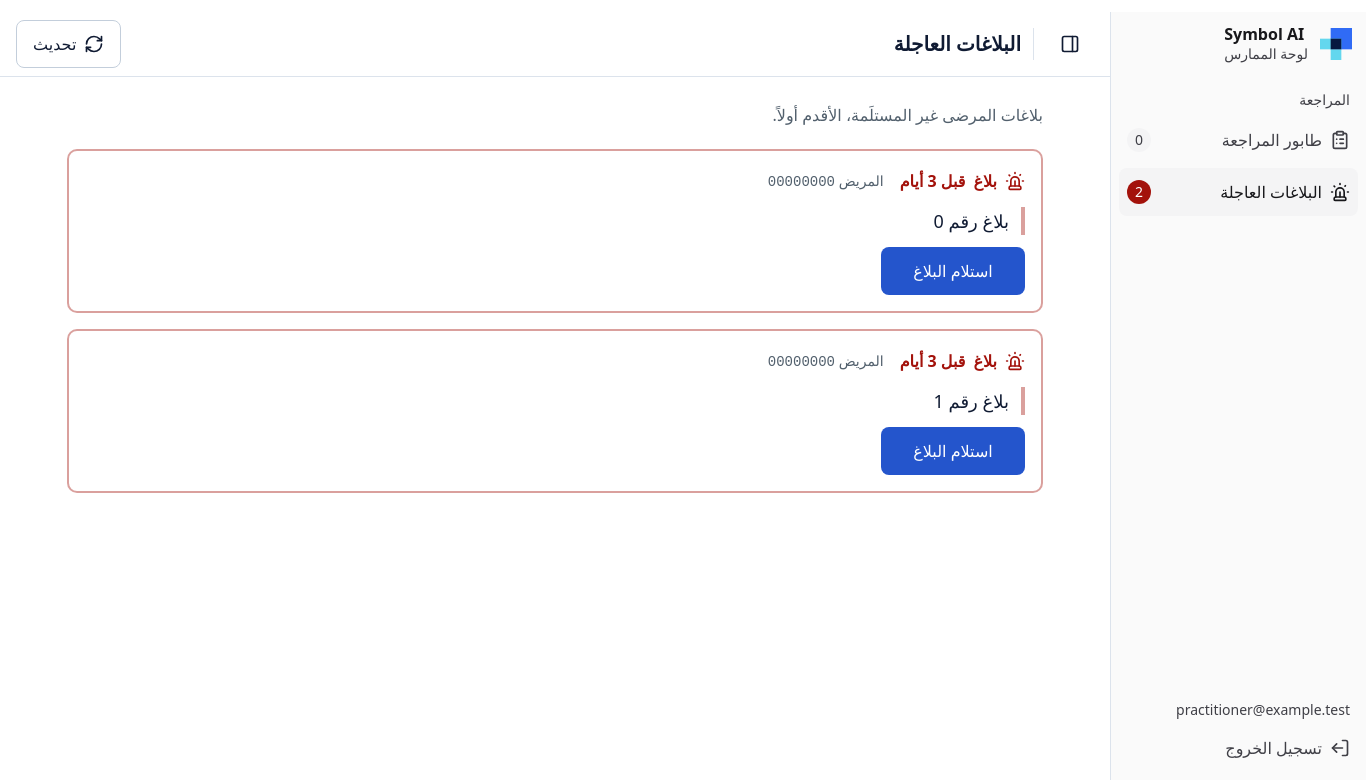
it: الإعلان عن نجاح الإجراء › الاستلام الثاني بالنصّ نفسه يُعلَن أيضاً
Click the button "استلام البلاغ" below "بلاغ رقم 0".
click(953, 271)  # box 881,247 -> 1025,295
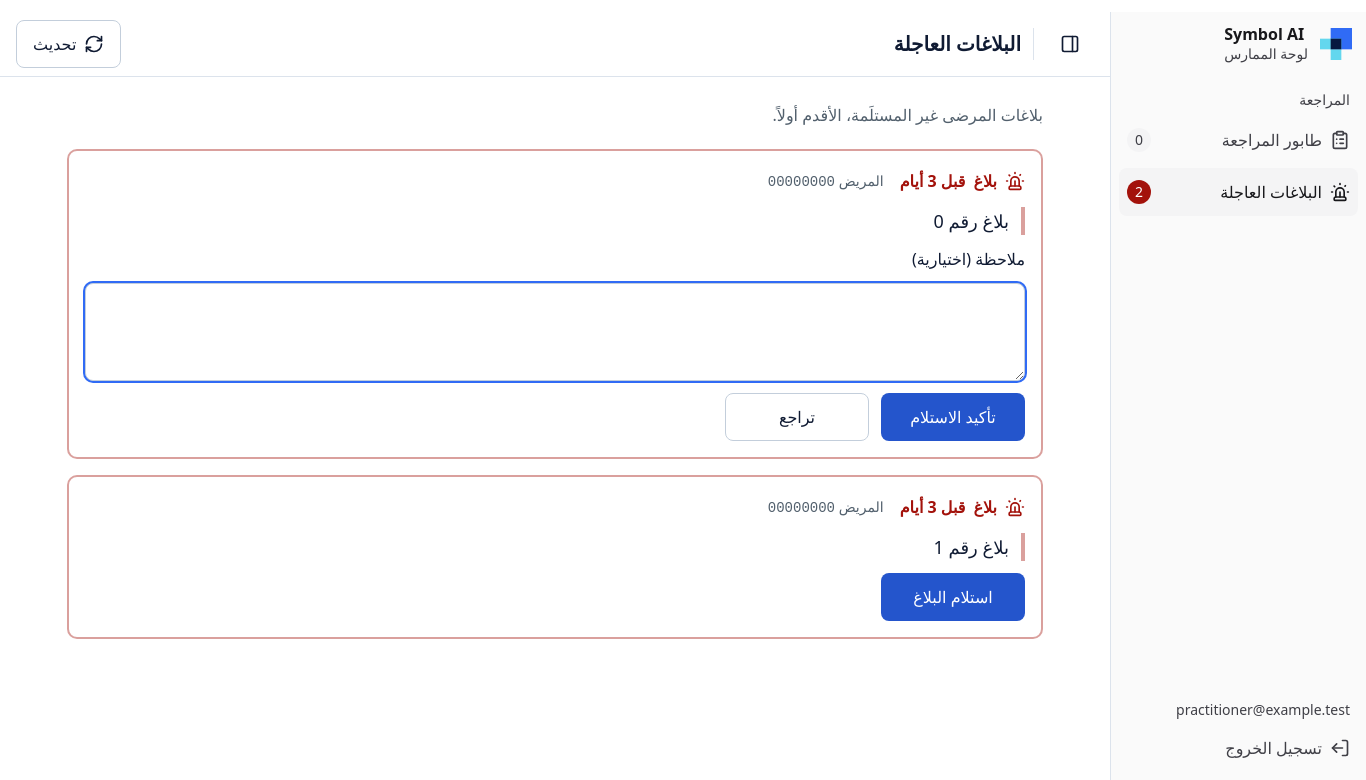
Click the button "تأكيد الاستلام".
click(953, 417)  # box 881,393 -> 1025,441
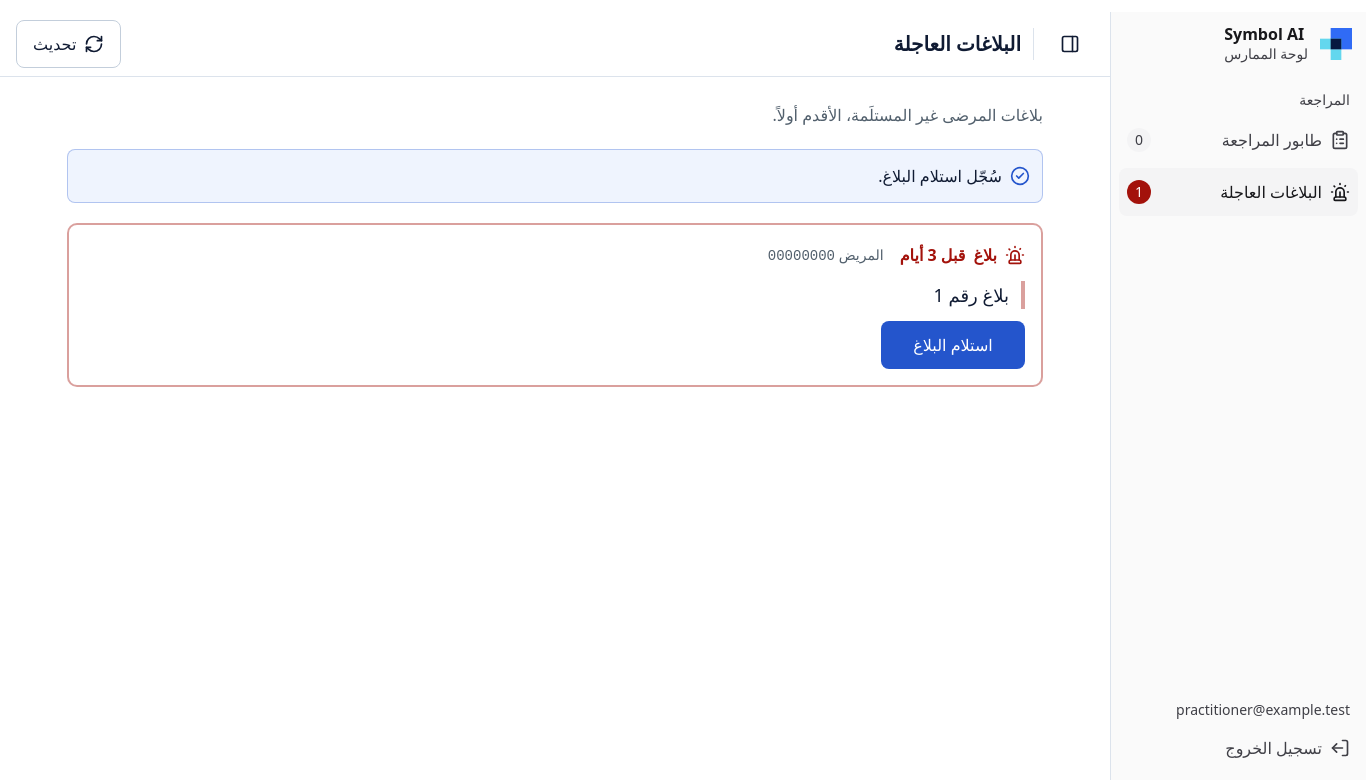
Now the text "سُجّل استلام البلاغ." is shown, box 67,149 -> 1043,203
Now the number of buttons "استلام البلاغ" is 1
Click the button "استلام البلاغ".
click(953, 345)  # box 881,321 -> 1025,369
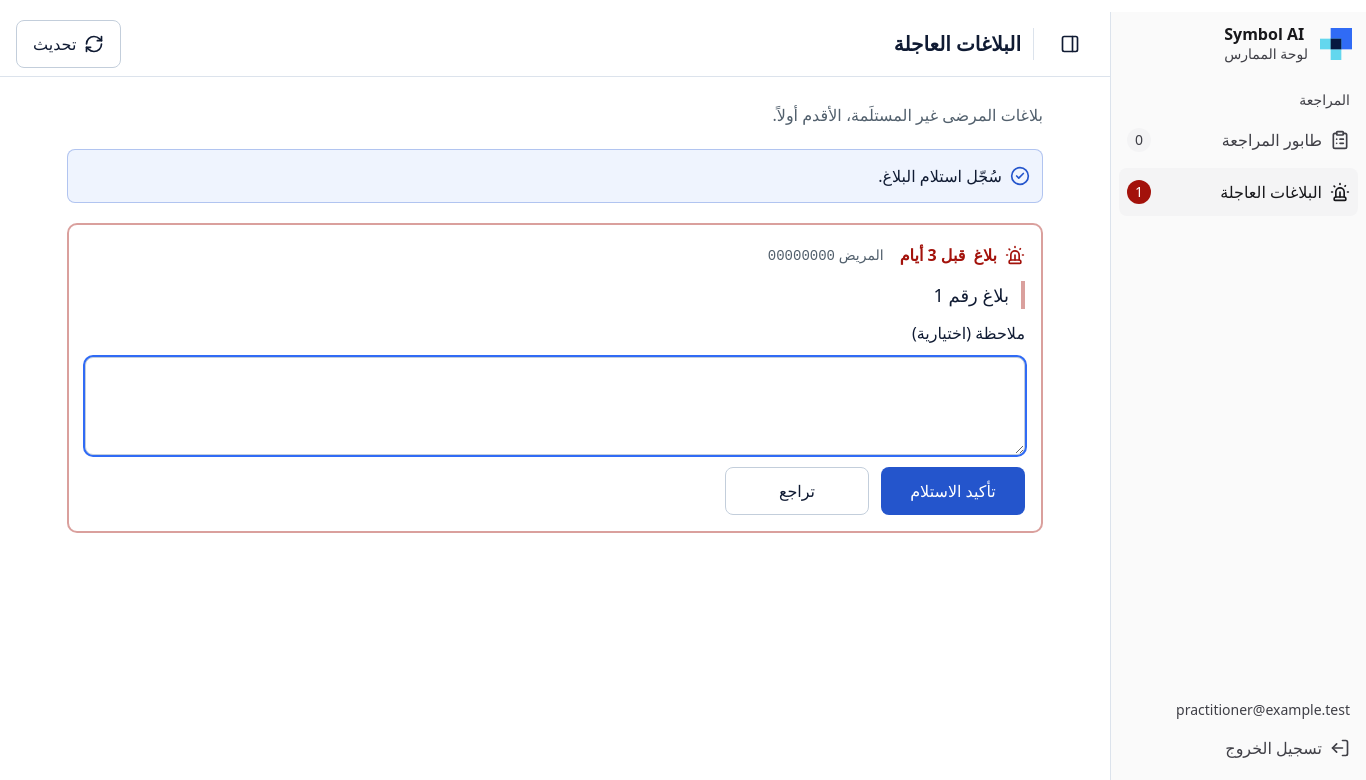
Click the button "تأكيد الاستلام".
click(953, 491)  # box 881,467 -> 1025,515
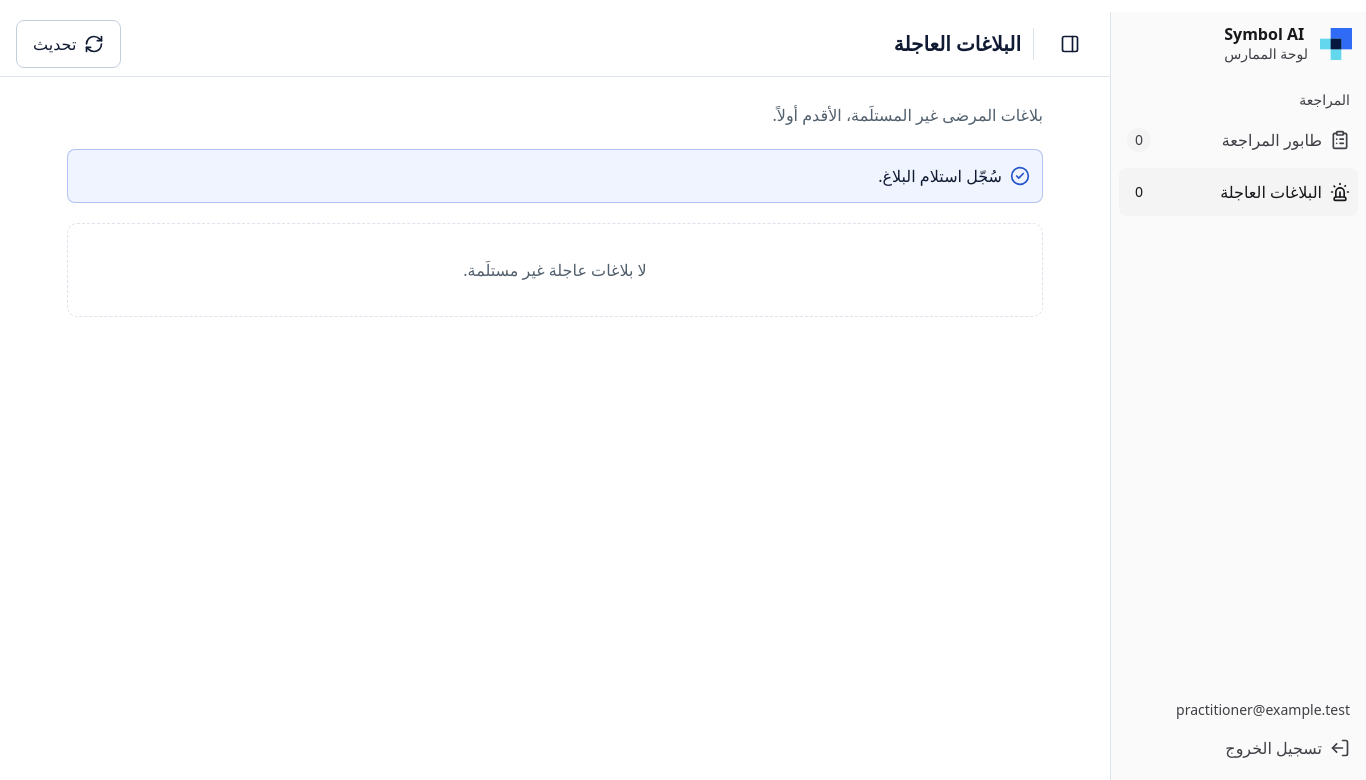
Now the text "لا بلاغات عاجلة غير مستلَمة." is shown, box 67,223 -> 1043,317
